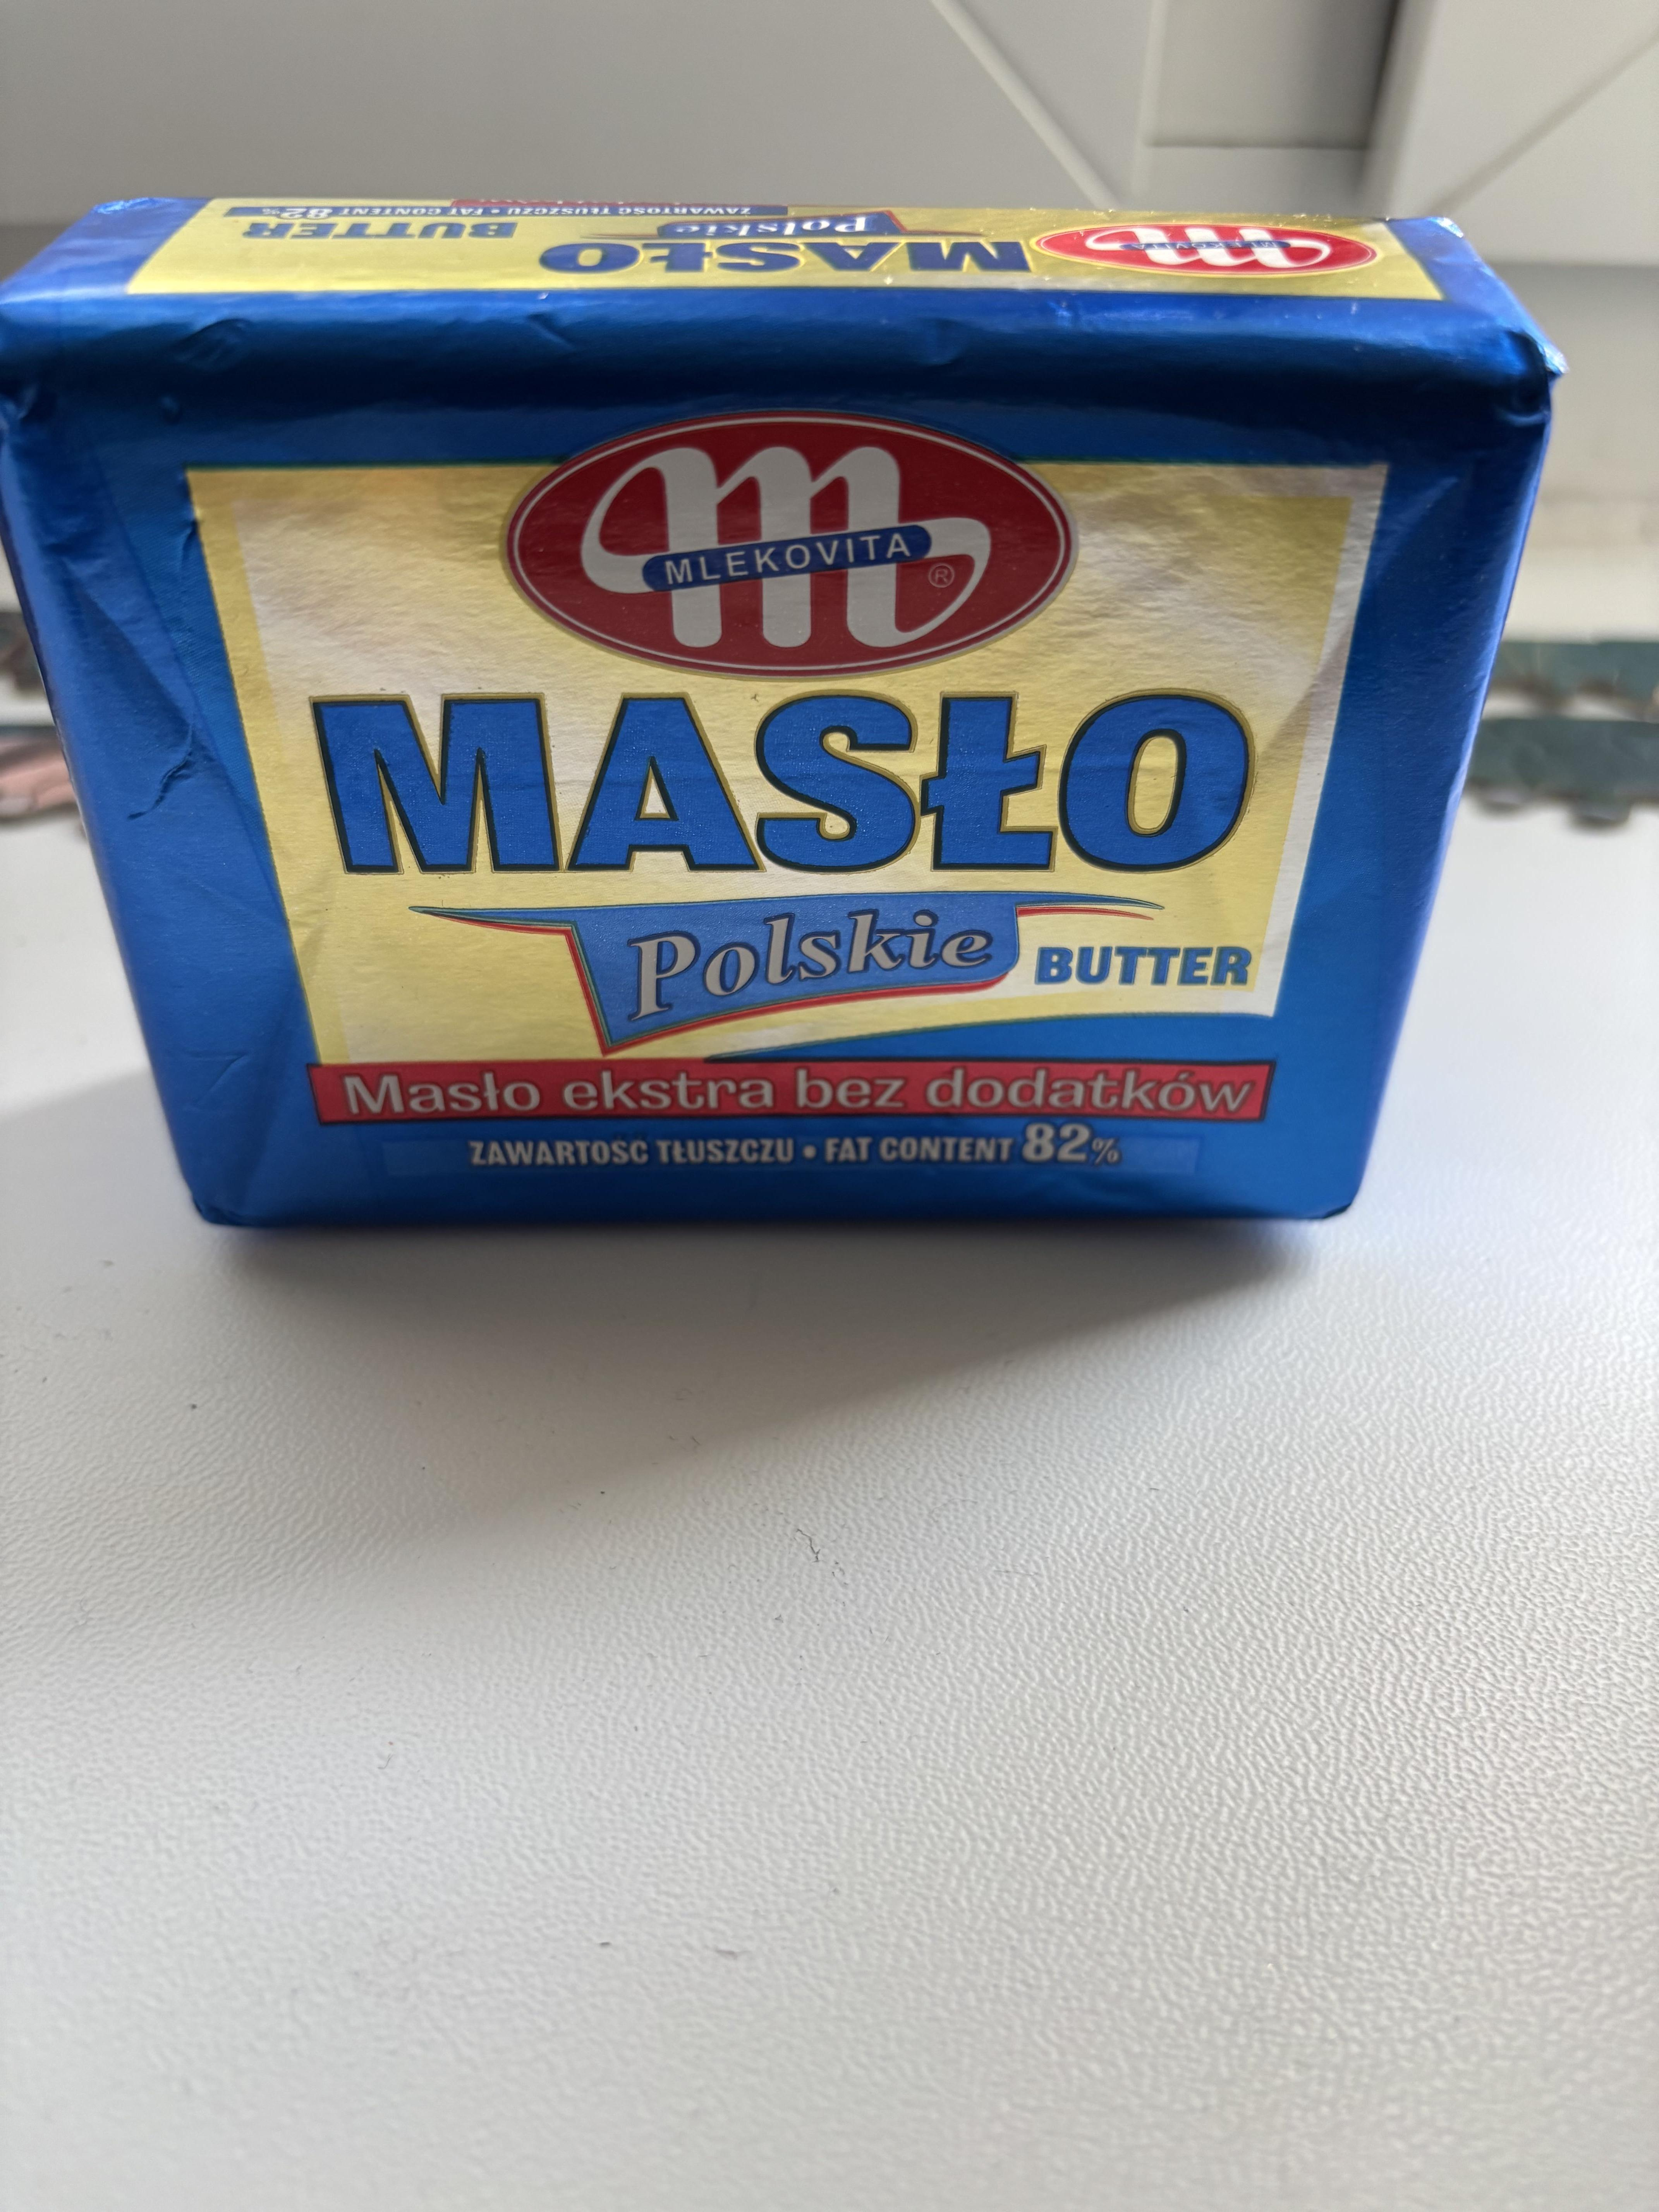Butter: (33, 240, 1471, 1204)
